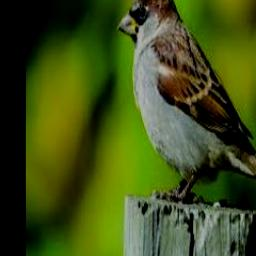Sparrow: (117, 0, 256, 211)
